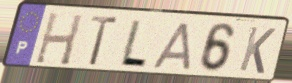6: (197, 21, 237, 75)
A: (150, 20, 192, 72)
H: (32, 11, 85, 68)
K: (236, 25, 278, 77)
L: (117, 18, 150, 70)
T: (87, 14, 121, 68)
